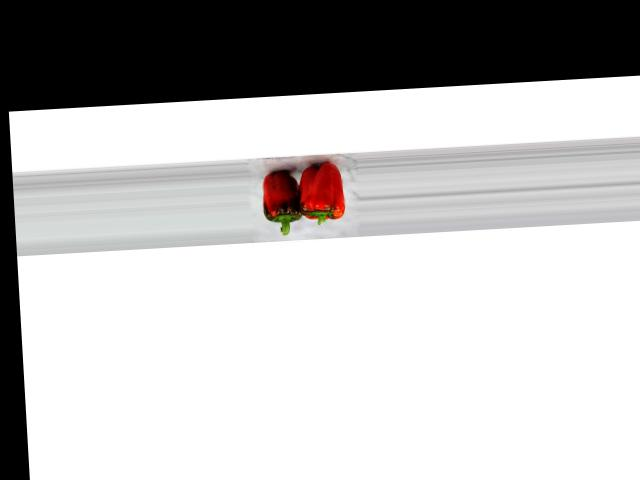bell_pepper: (297, 160, 353, 229)
